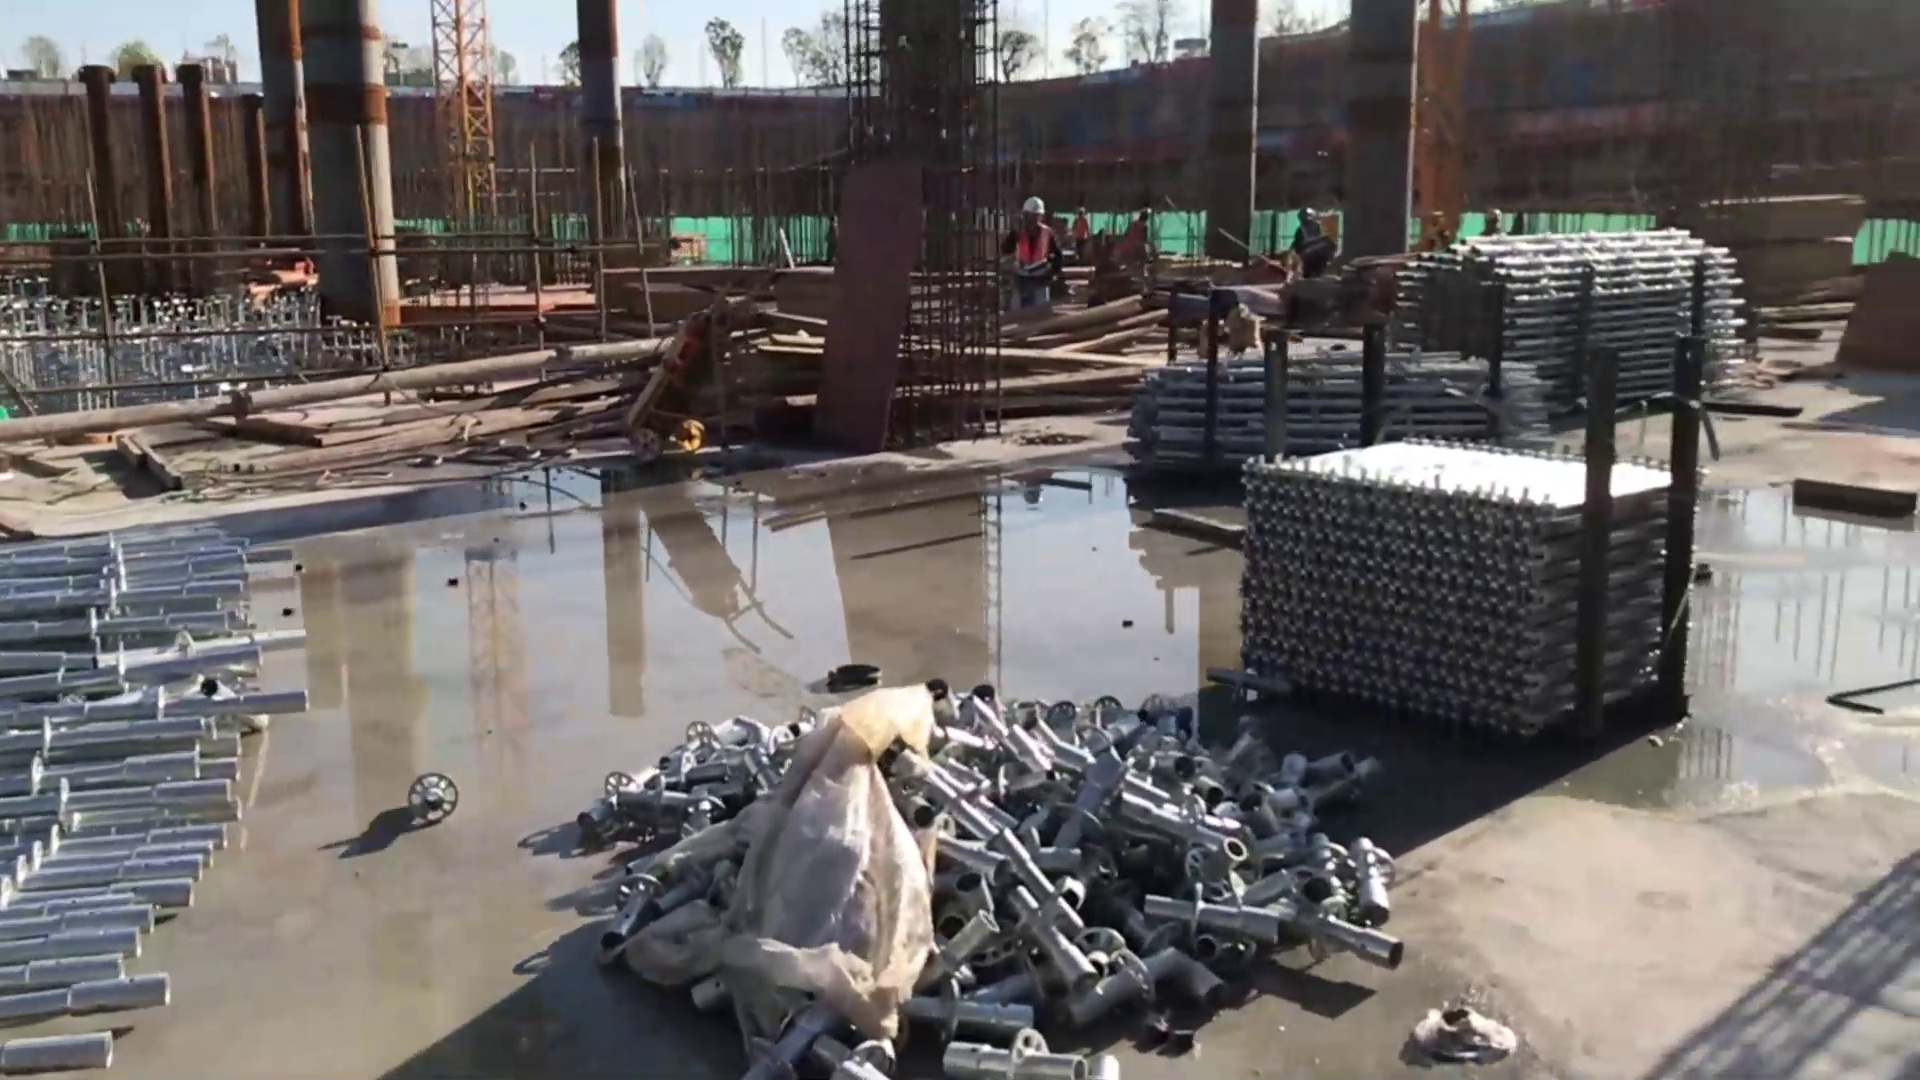helmet: (1020, 196, 1047, 213)
person: (1008, 189, 1055, 315), (1286, 207, 1332, 270), (1119, 207, 1151, 277), (1072, 206, 1093, 263)
scaffold: (1244, 442, 1682, 742), (6, 537, 242, 1080), (1388, 229, 1744, 410), (1136, 350, 1571, 479)
vest: (1013, 223, 1050, 274)
